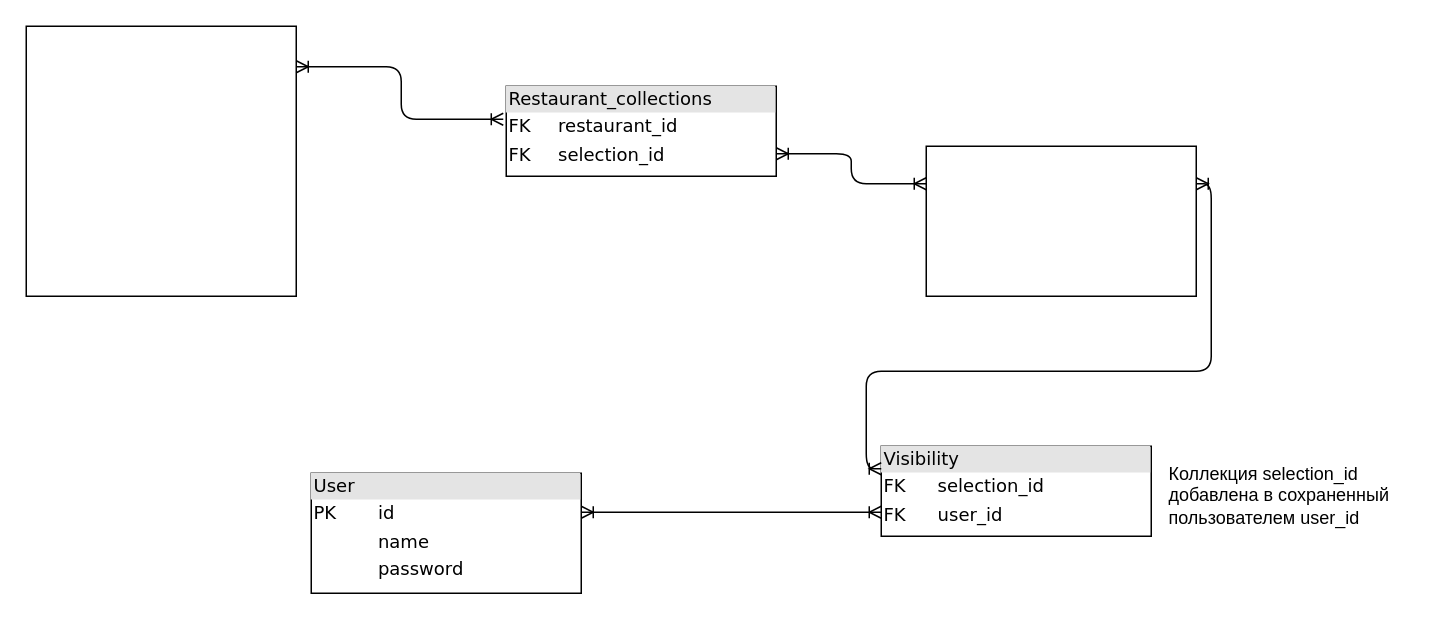
The diagram is 1433 pixels wide and 620 high, and some of its shapes have lost their labels. The centre of each missing label's shape, as x and y in pixels:
Restaurant PK id latitude longitude name description expert rating check ...: the point at 160,160
Selection PK id name description is_public: the point at 1060,220
